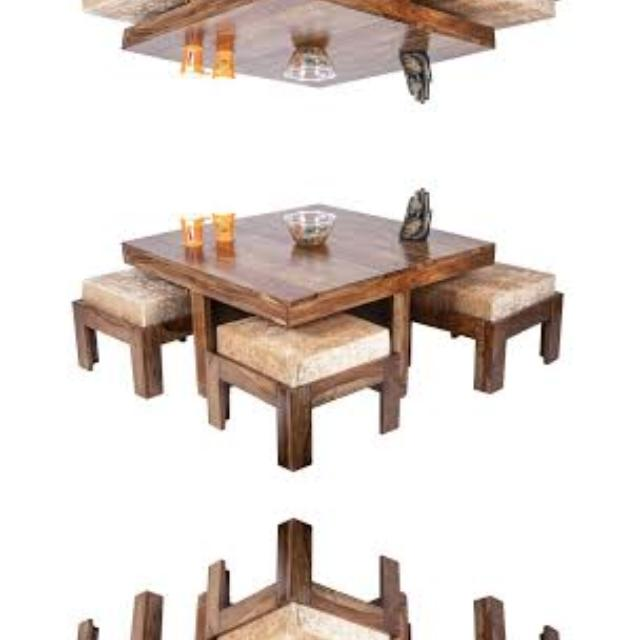obstacle: (136, 178, 507, 300), (135, 0, 506, 112), (216, 288, 414, 484), (216, 505, 413, 640), (426, 241, 594, 391), (66, 246, 194, 402), (426, 0, 593, 49), (426, 598, 593, 640), (65, 587, 194, 640), (65, 0, 194, 43), (216, 0, 413, 1)
